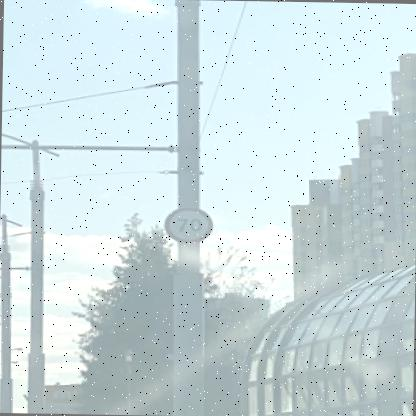speedlimit: (160, 204, 211, 242)
